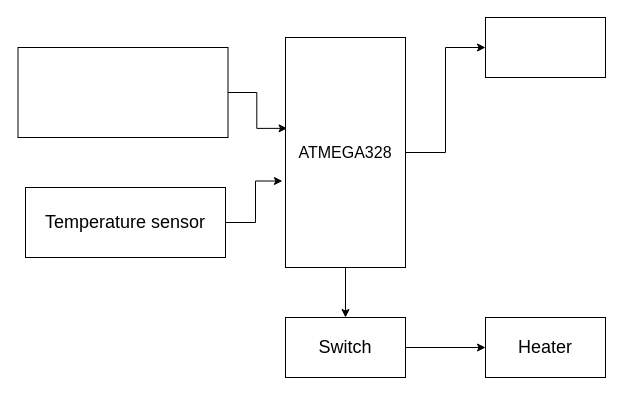
The diagram is 623 pixels wide and 395 high, and some of its shapes have lost their labels. The centre of each missing label's shape, as x and y in pixels:
"Button sensor" belongs at [122,92].
"Display" belongs at [545,47].
